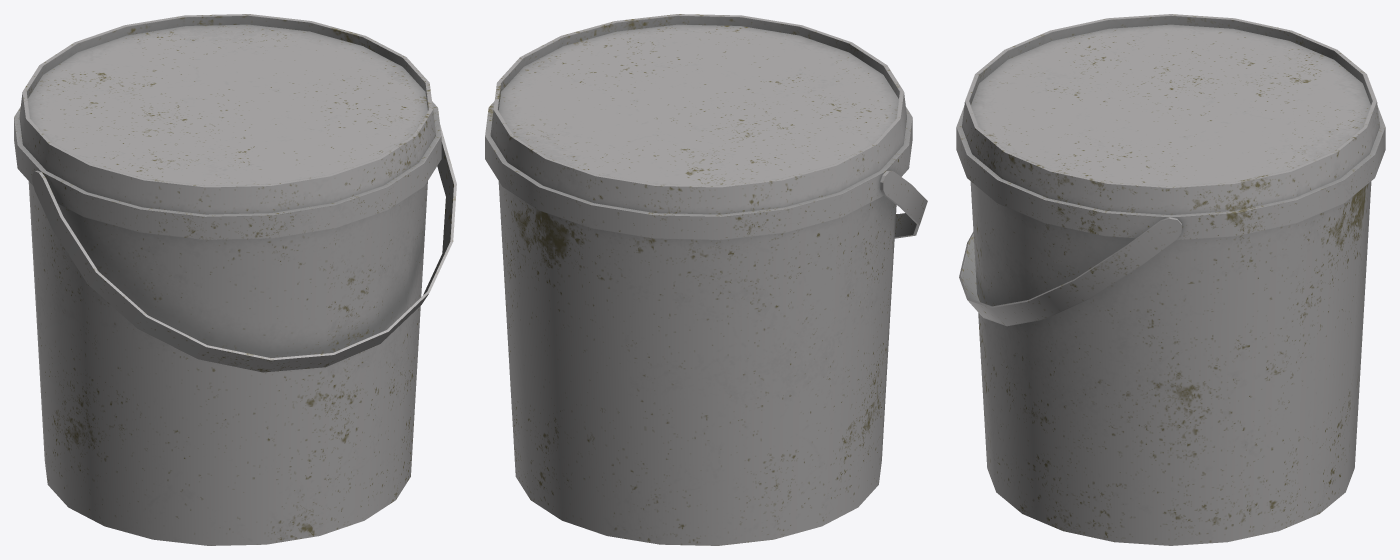
File: PlasticBucket.fbx
3 views of the same model, side by side, from view 1: azimuth 30°, elevation 25°; view 2: azimuth 150°, elevation 25°; view 3: azimuth 270°, elevation 25° (orthographic).
Visible parts, largest first — view 1: PlasticBucket; view 2: PlasticBucket; view 3: PlasticBucket.
Boxes of the visible parts, x1,y1,x2,y2 form: PlasticBucket: (14,14,456,545); PlasticBucket: (485,14,927,545); PlasticBucket: (956,14,1385,545).
Size of the model in its own units: 38.63 by 35.75 by 37.86.
Materials: 1 (1 with a texture image).
